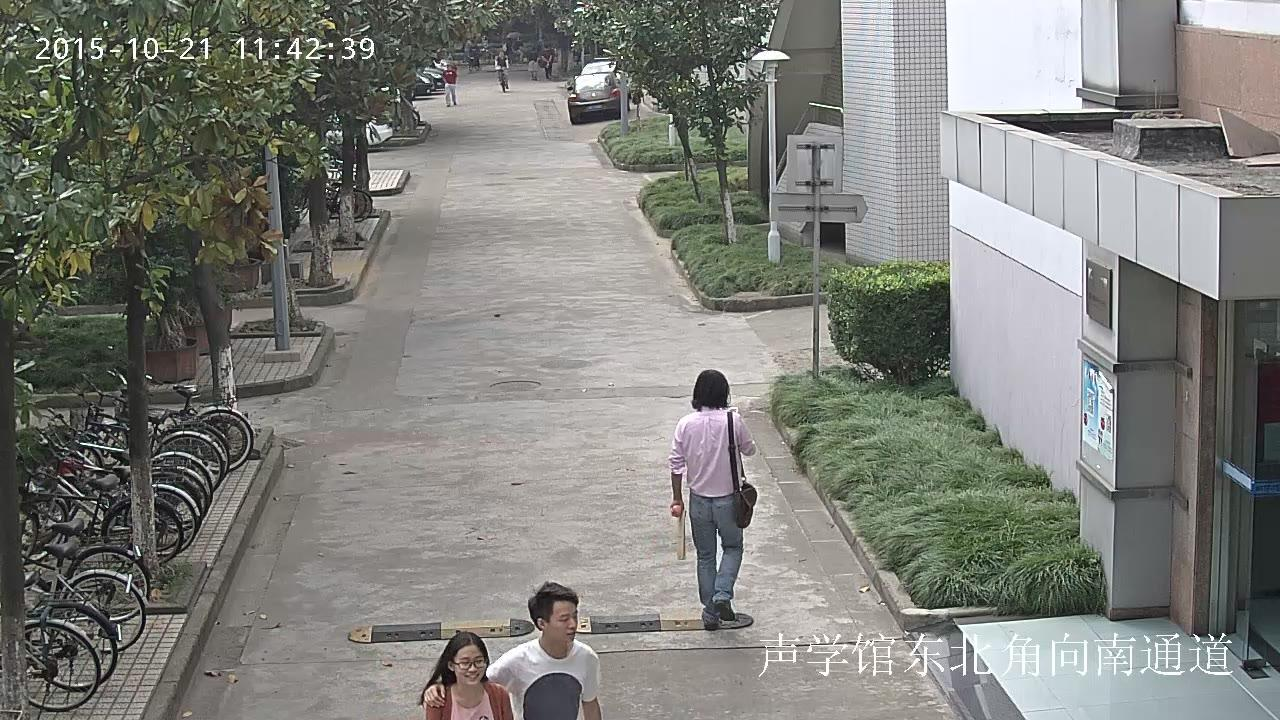person: (423, 581, 603, 720), (669, 368, 756, 630), (417, 632, 513, 720), (494, 49, 510, 93), (442, 64, 456, 106), (494, 49, 509, 82)
